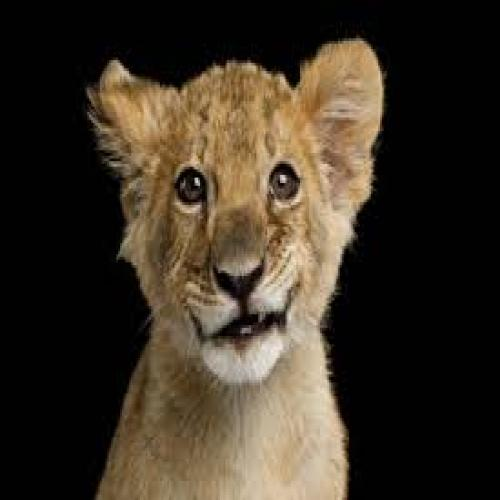lion-endangered: (93, 38, 385, 500)
